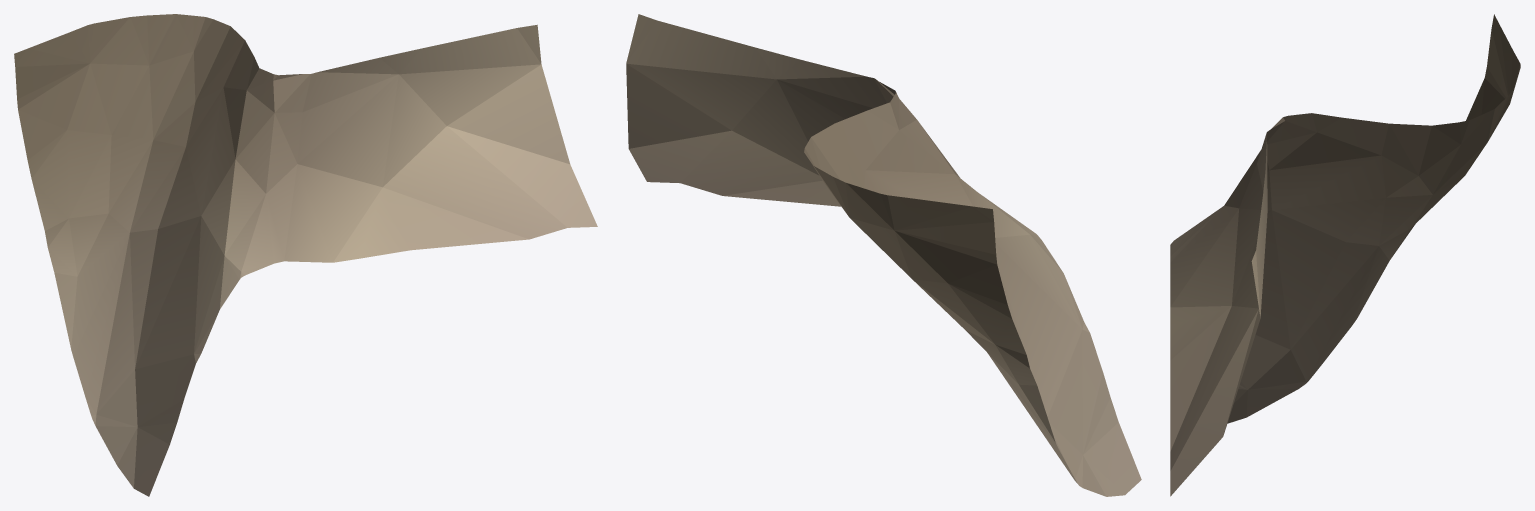
File: bisect-9-2-11.gltf
3 renders of one model, left to right at view 1: azimuth 30°, elevation 25°; view 2: azimuth 150°, elevation 25°; view 3: azimuth 270°, elevation 25°, orthographic. The views are drawn at different scales.
Visible parts, largest first — view 1: bisect-9-2-11; view 2: bisect-9-2-11; view 3: bisect-9-2-11.
Boxes of the visible parts, x1,y1,x2,y2 form: bisect-9-2-11: [14, 14, 597, 496]; bisect-9-2-11: [626, 14, 1141, 496]; bisect-9-2-11: [1170, 14, 1520, 496].
Size of the model in its own units: 14.54 by 10.75 by 8.2.
